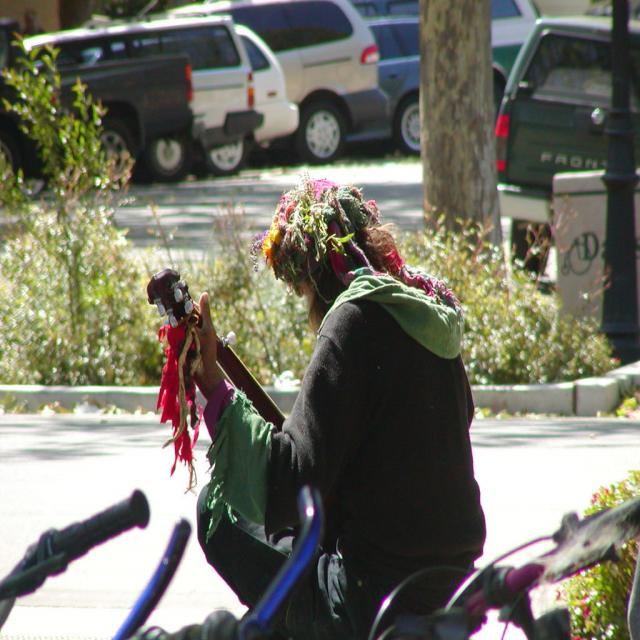other: (490, 13, 640, 278), (172, 0, 392, 166), (338, 0, 420, 153), (227, 24, 302, 173), (490, 0, 542, 111)
